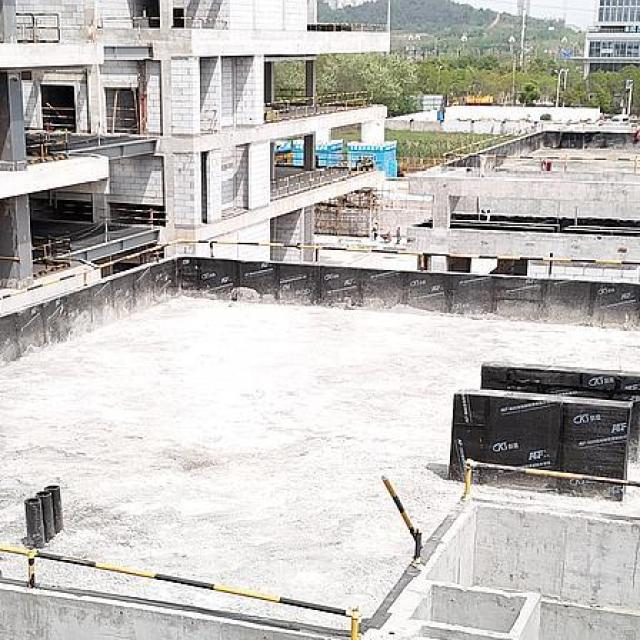edge_guardrail: (0, 236, 640, 305), (0, 543, 361, 640), (441, 120, 640, 173), (464, 459, 640, 495), (271, 150, 373, 193), (379, 475, 424, 561), (264, 90, 375, 120), (32, 234, 72, 270), (24, 126, 69, 157), (110, 207, 167, 224), (107, 106, 140, 131), (41, 106, 76, 128), (200, 109, 217, 135), (274, 150, 304, 163), (274, 87, 307, 97), (173, 16, 223, 21), (104, 16, 159, 20)
